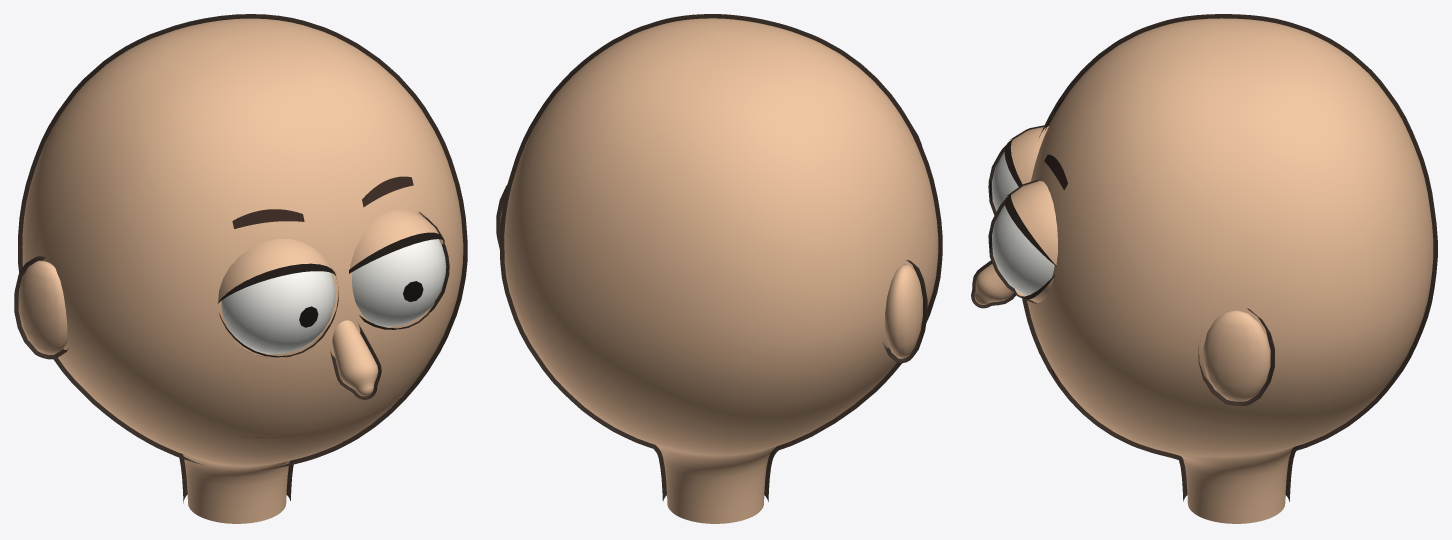
Rendered from cabeza_base_v002.glb.
3 renders of one model, left to right at view 1: azimuth 30°, elevation 25°; view 2: azimuth 150°, elevation 25°; view 3: azimuth 270°, elevation 25°, orthographic.
Visible parts, largest first — view 1: Head, Brows_Simple; view 2: Head; view 3: Head.
Part boxes in pixels (x1,y1,x2,y2): Head: (14,14,467,523); Brows_Simple: (232,176,413,228); Head: (496,14,942,523); Head: (971,14,1437,523).
Size of the model in its own units: 0.4543 by 0.4792 by 0.4373.
